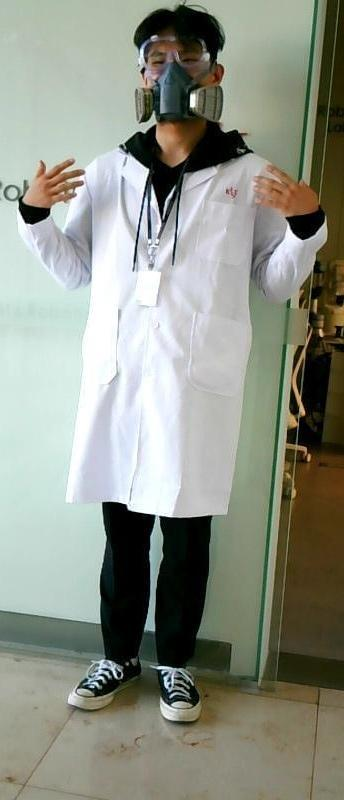lab_coat: (83, 150, 260, 504)
